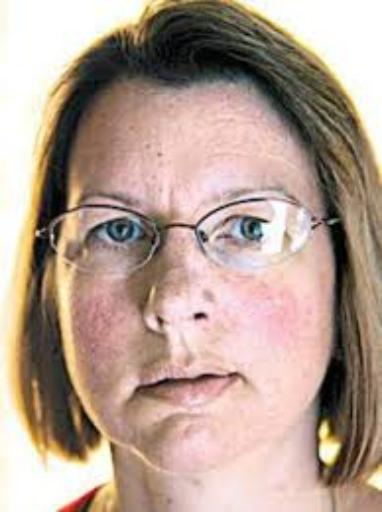left_eye: (212, 218, 274, 252)
left_lip_corner: (223, 363, 255, 390)
right_eye: (87, 217, 152, 250)
right_lip_corner: (133, 376, 167, 400)
